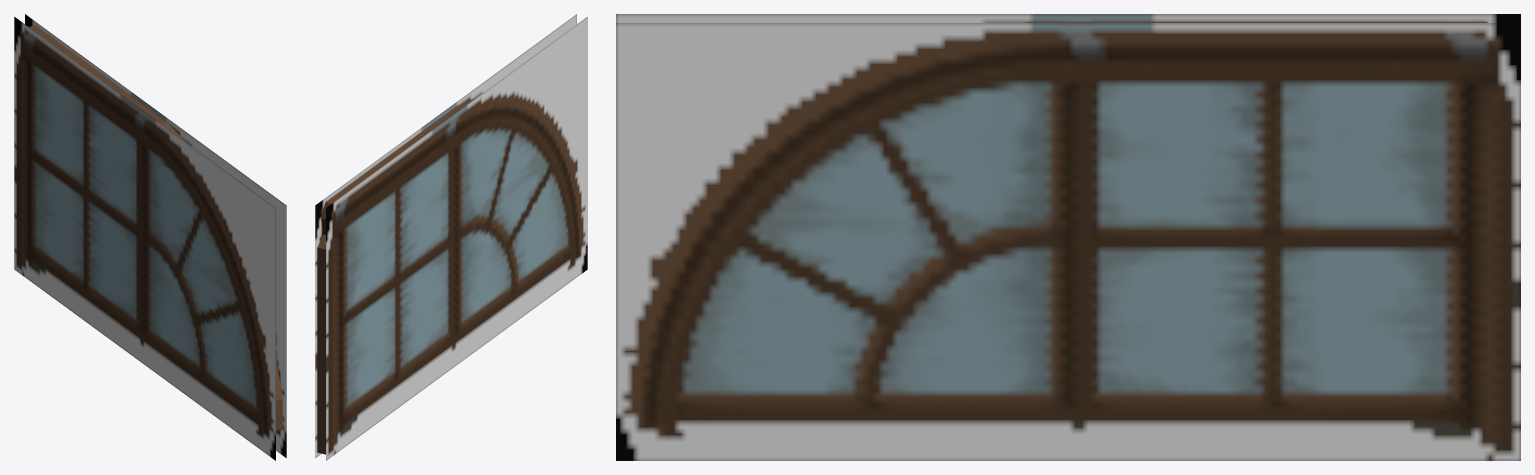
Rendered from pz_native_fixtures_windows_wood_0_frame.obj.
3 views of the same model, side by side, from view 1: azimuth 30°, elevation 25°; view 2: azimuth 150°, elevation 25°; view 3: azimuth 270°, elevation 25° (orthographic). The views are drawn at different scales.
Parts seen in each view (by area): view 1: pz_native_fixtures_windows_wood_0_frame; view 2: pz_native_fixtures_windows_wood_0_frame; view 3: pz_native_fixtures_windows_wood_0_frame.
Boxes of the visible parts, x1,y1,x2,y2 form: pz_native_fixtures_windows_wood_0_frame: [14, 14, 286, 460]; pz_native_fixtures_windows_wood_0_frame: [315, 14, 587, 460]; pz_native_fixtures_windows_wood_0_frame: [616, 14, 1520, 460].
Size of the model in its own units: 0.04 by 0.9062 by 1.7.
Materials: 1 (1 with a texture image).
